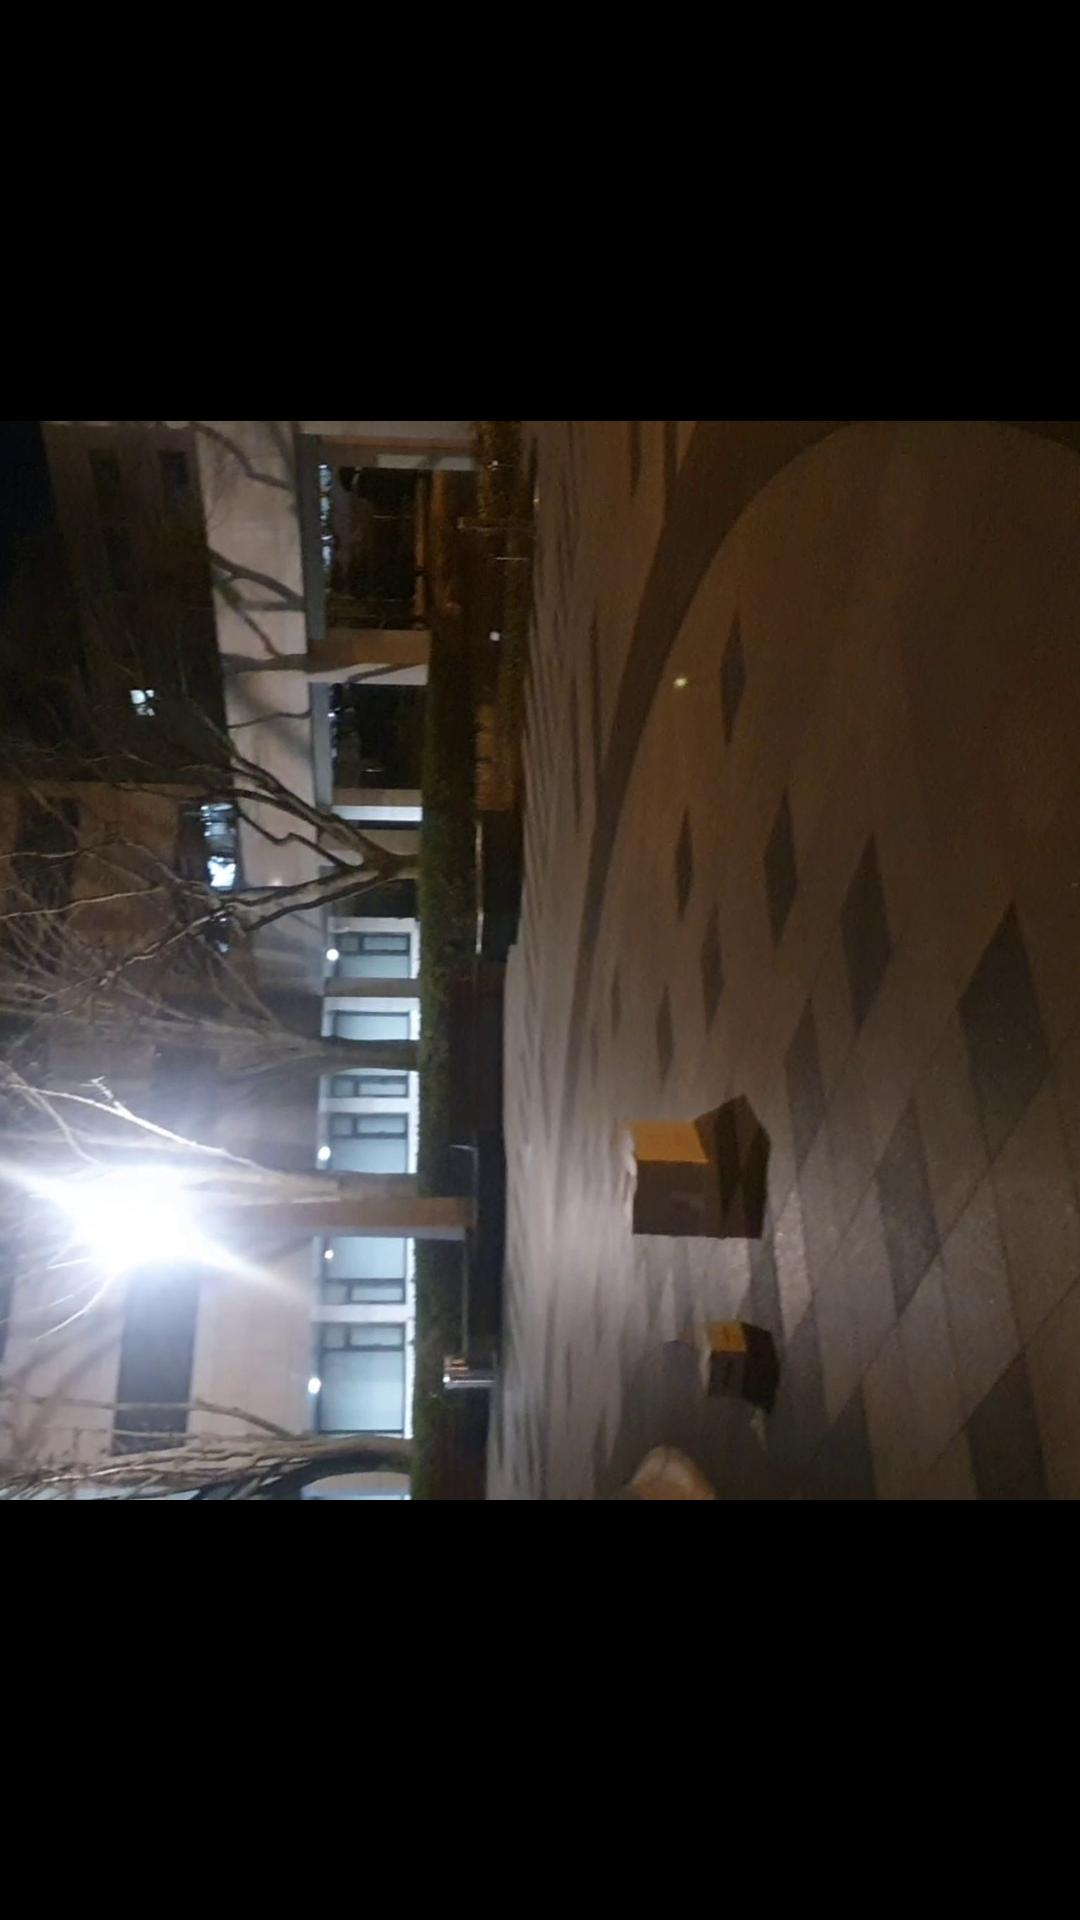Box: (611, 1113, 735, 1242), (690, 1300, 770, 1407)
